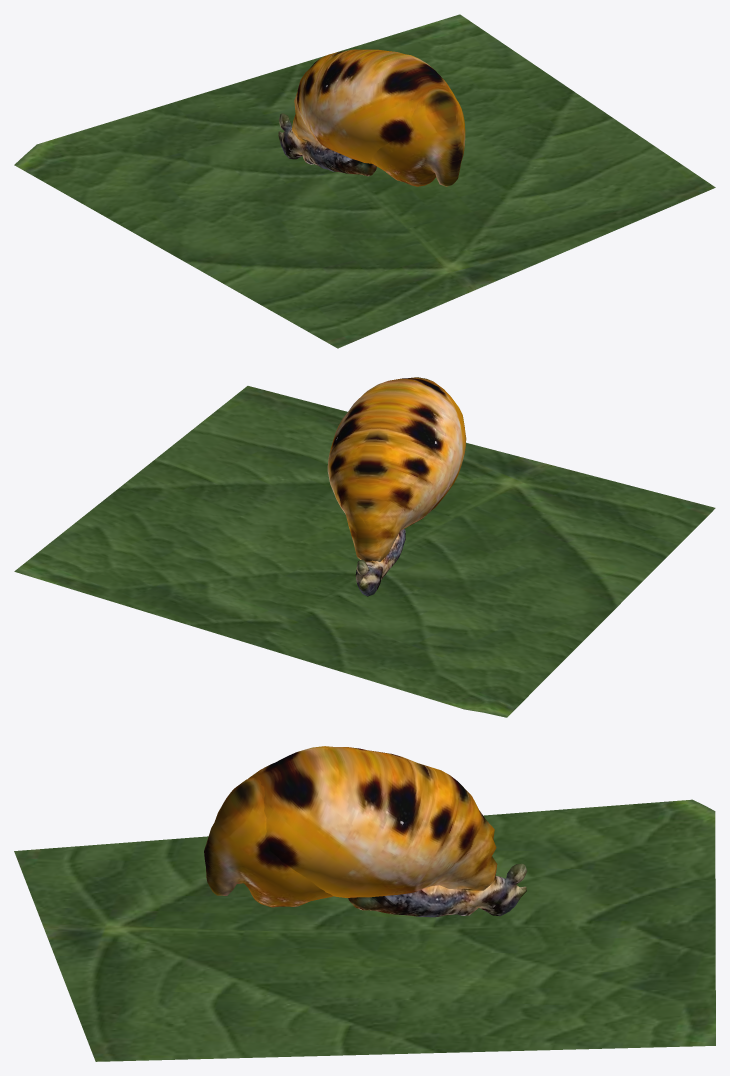
File: Pupa.FBX
The picture shows the model from 3 angles, top to bottom: view 1: azimuth 30°, elevation 25°; view 2: azimuth 150°, elevation 25°; view 3: azimuth 270°, elevation 25°; orthographic projection. The views are drawn at different scales.
Visible parts, largest first — view 1: level, Group001; view 2: level, Group001; view 3: level, Group001.
Boxes of the visible parts, left/top/right/bottom form: level: left=14, top=14, right=715, bottom=348; Group001: left=278, top=49, right=465, bottom=186; level: left=14, top=386, right=715, bottom=717; Group001: left=327, top=377, right=466, bottom=596; level: left=14, top=799, right=715, bottom=1061; Group001: left=204, top=746, right=527, bottom=917.
Bounding box in the file's own units: 10.78 × 3.49 × 10.63.
Materials: 2 (2 with a texture image).
